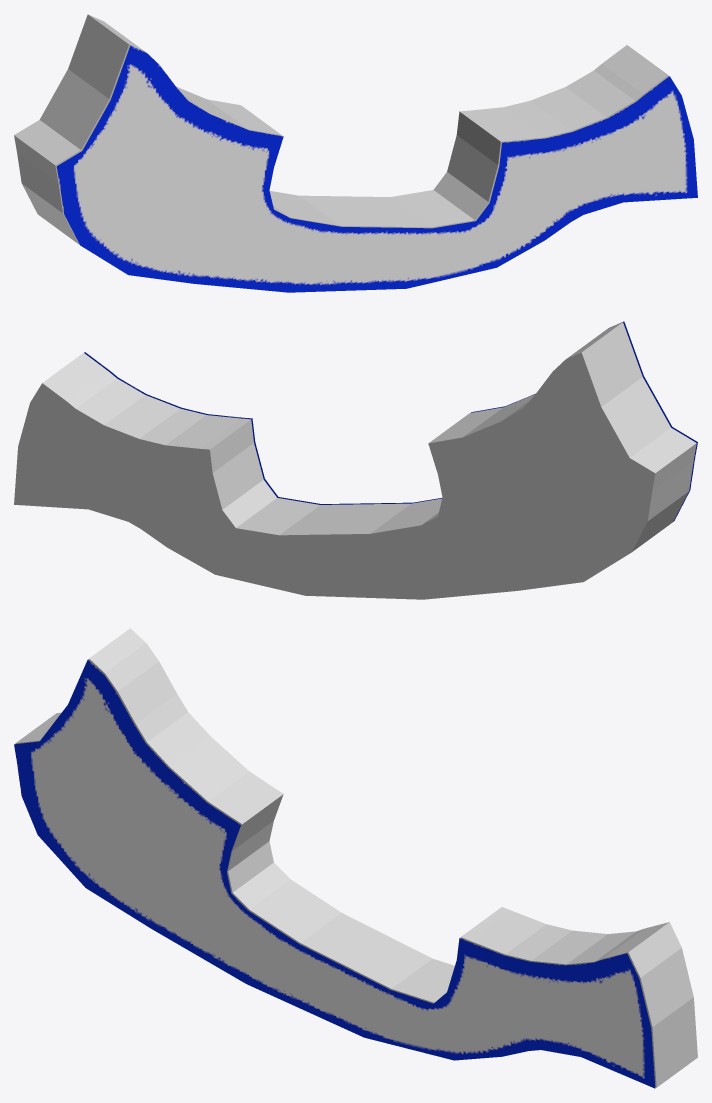
3 views of the same model, one above another, from view 1: azimuth 30°, elevation 25°; view 2: azimuth 150°, elevation 25°; view 3: azimuth 330°, elevation 25° (orthographic).
Visible parts, largest first — view 1: In_2_1, In_2_0; view 2: In_2_0, In_2_1; view 3: In_2_1, In_2_0.
Boxes of the visible parts, left/top/right/bottom form: In_2_1: left=56, top=45, right=697, bottom=292; In_2_0: left=14, top=14, right=668, bottom=244; In_2_0: left=14, top=322, right=696, bottom=599; In_2_1: left=84, top=321, right=697, bottom=521; In_2_1: left=14, top=660, right=655, bottom=1088; In_2_0: left=15, top=628, right=697, bottom=1087.
Bounding box in the file's own units: 4.47 × 2.08 × 0.515.
Materials: 2 (1 with a texture image).
